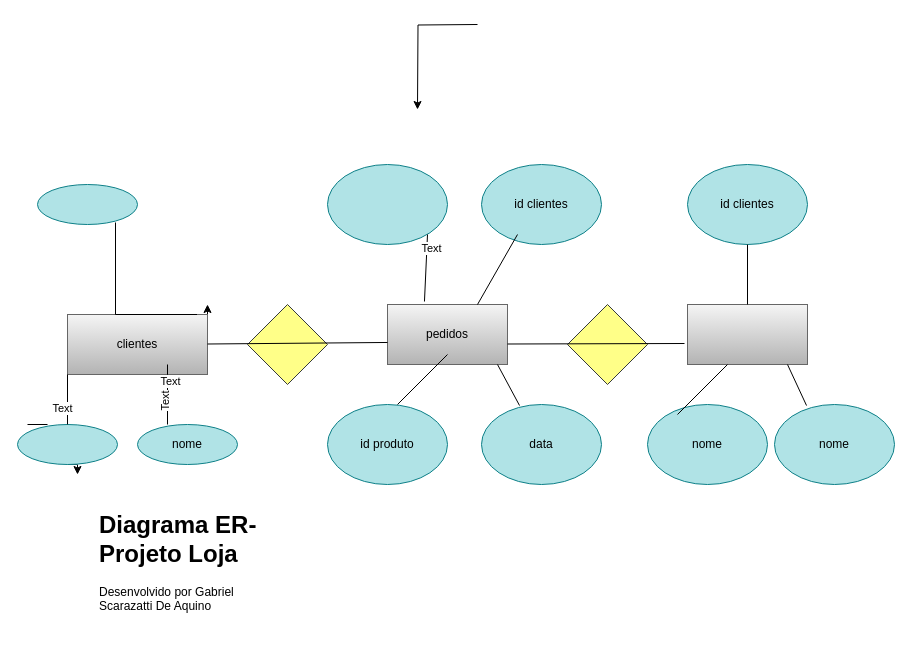
Some shapes in this 912 by 645 pixel diagram are drawn without their labels. Here are the shapes that lost their labels. From the top down, the centre of each, then its label:
At [87,204]: "id cliente".
At [387,204]: "id pedidos".
At [747,334]: "produtos".
At [67,444]: "e-mail".
